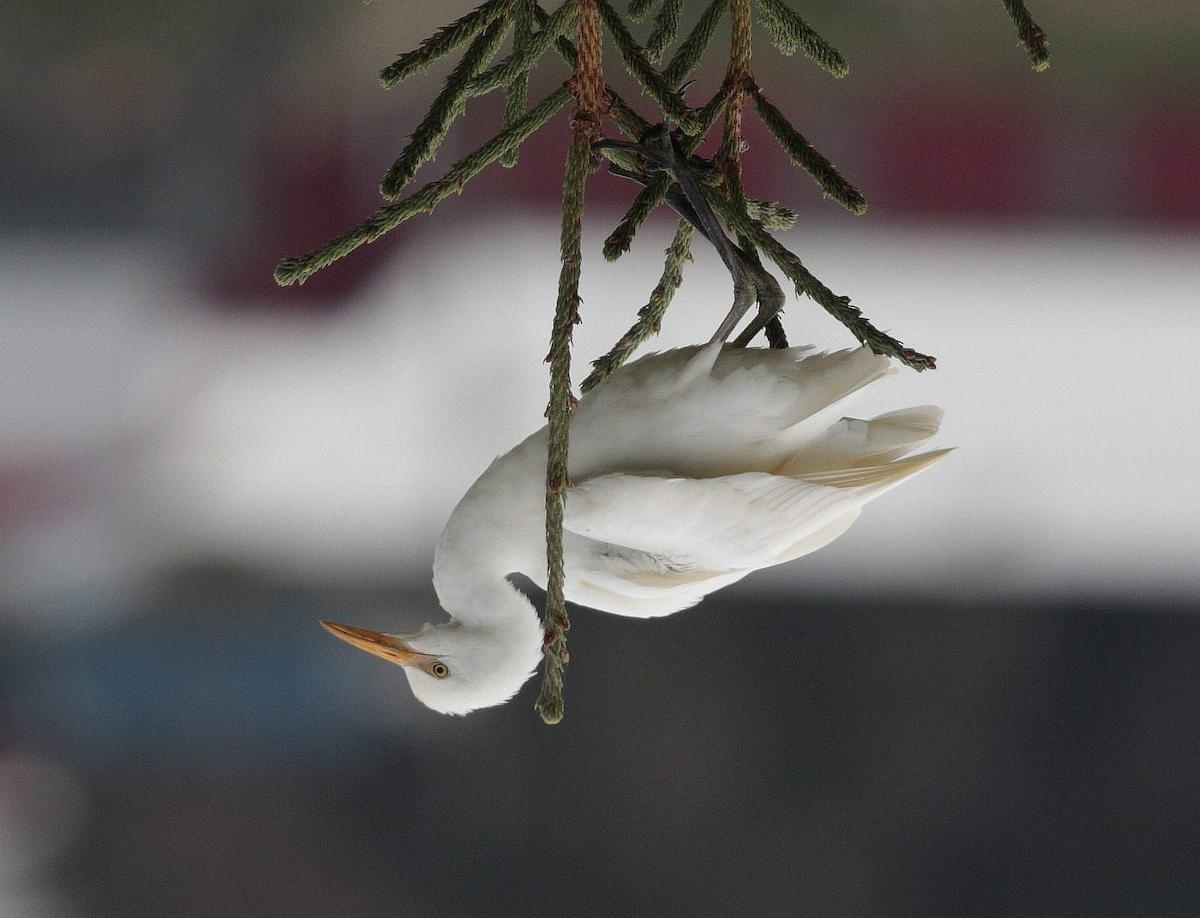egret: (312, 323, 910, 726)
